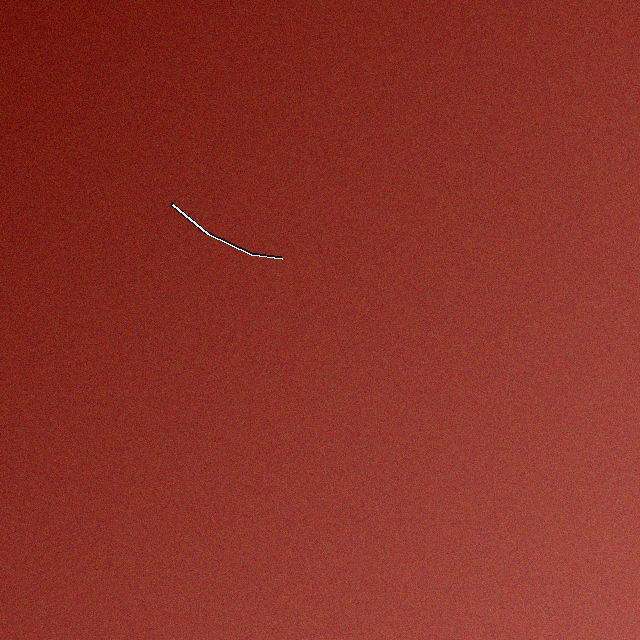defect: (163, 195, 289, 265)
